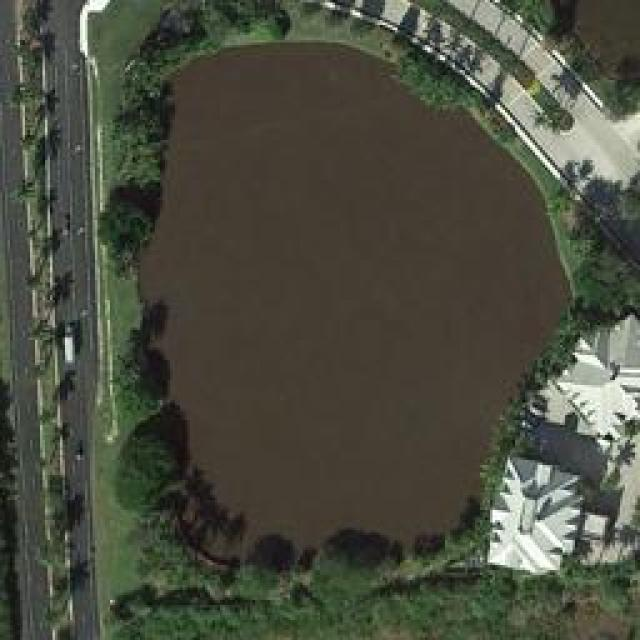Lake: (95, 34, 583, 581)
